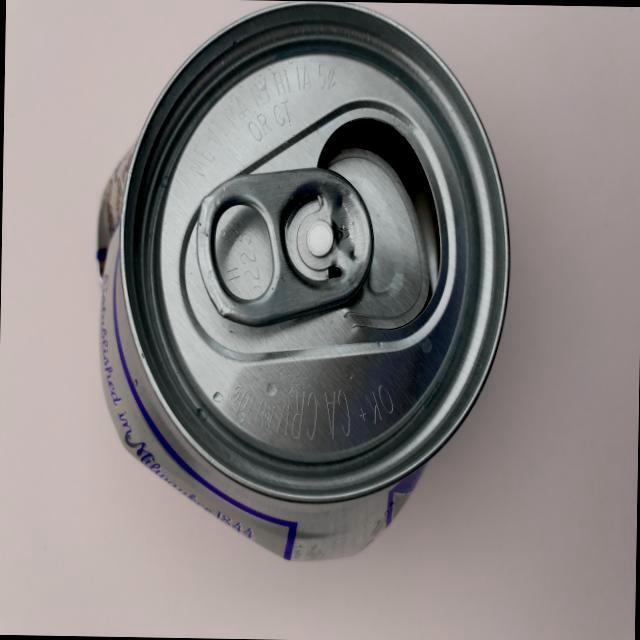metal: (73, 0, 529, 575)
